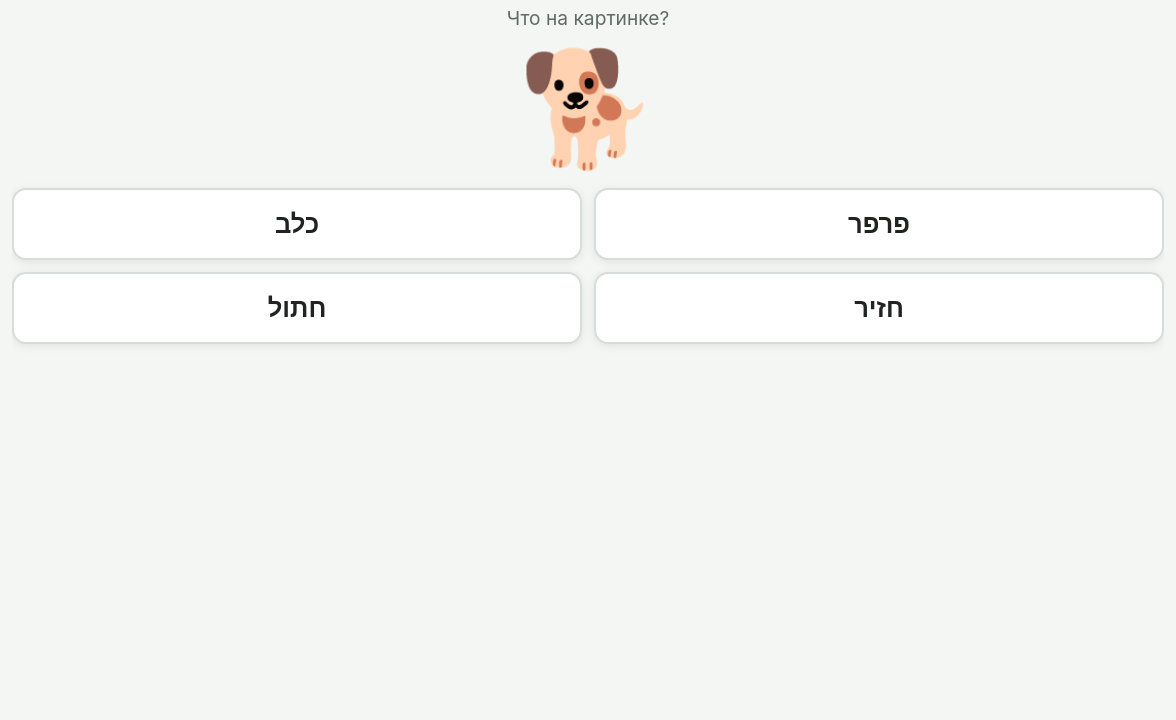
Test: Угадай слово › правильный ответ: «Правильно!» и автопереход
The width and height of the screenshot is (1176, 720).
Click the button "כלב": (297, 224) left=12, top=188, right=582, bottom=260
Wait 1000 ms
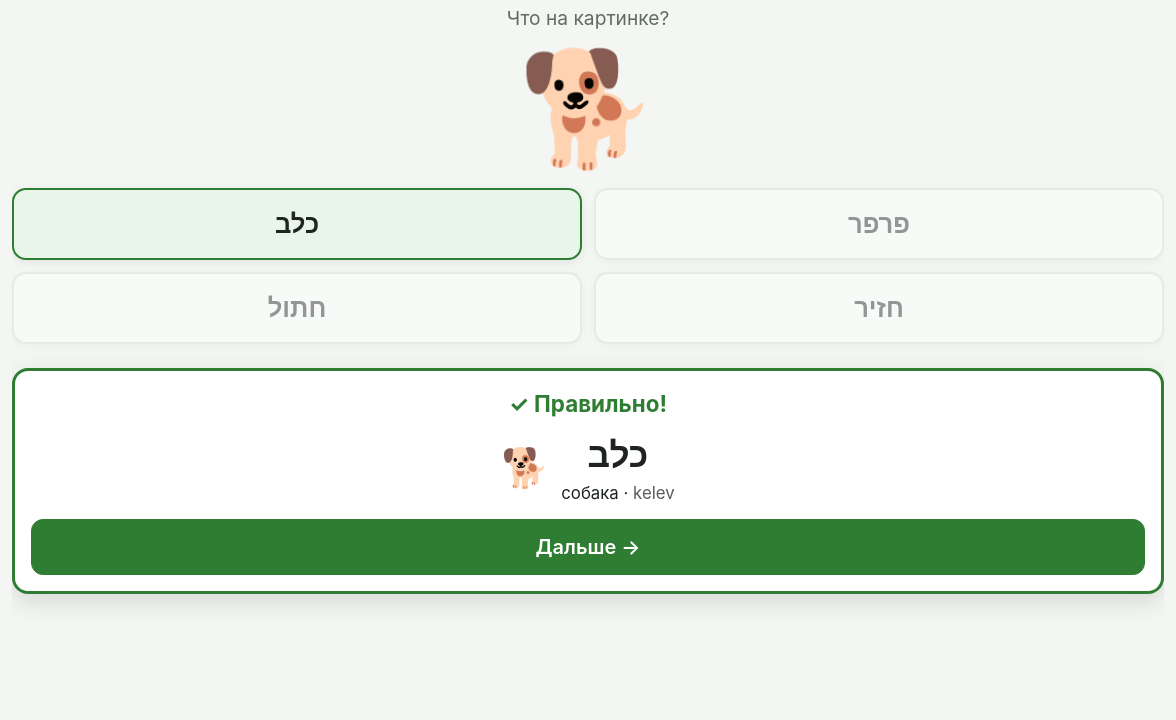
Expected: the text "✓ Правильно!" is shown, left=509, top=390, right=667, bottom=417
